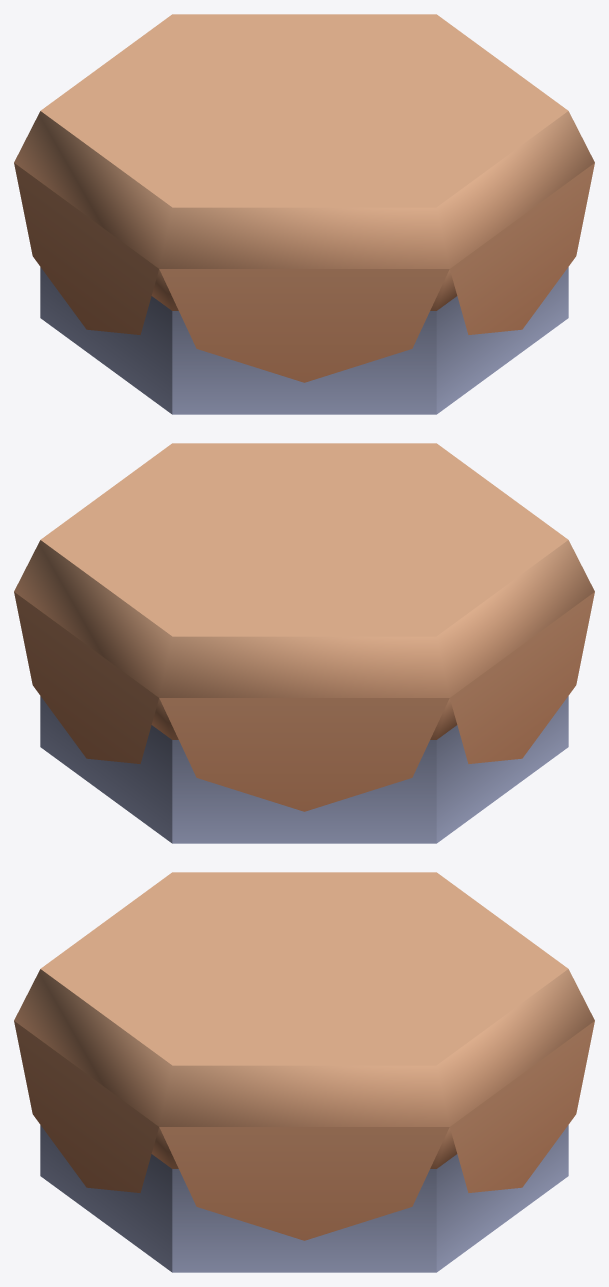
File: block-grass-overhang-low-hexagon.glb
3 renders of one model, top to bottom at view 1: azimuth 30°, elevation 25°; view 2: azimuth 150°, elevation 25°; view 3: azimuth 270°, elevation 25°, orthographic.
Visible parts, largest first — view 1: block-grass-overhang-low-hexagon; view 2: block-grass-overhang-low-hexagon; view 3: block-grass-overhang-low-hexagon.
Part boxes in pixels (<box>): block-grass-overhang-low-hexagon: <box>14,14,594,414</box>; block-grass-overhang-low-hexagon: <box>14,443,594,843</box>; block-grass-overhang-low-hexagon: <box>14,872,594,1272</box>.
Bounding box in the file's own units: 1.1 × 0.5 × 1.27.
